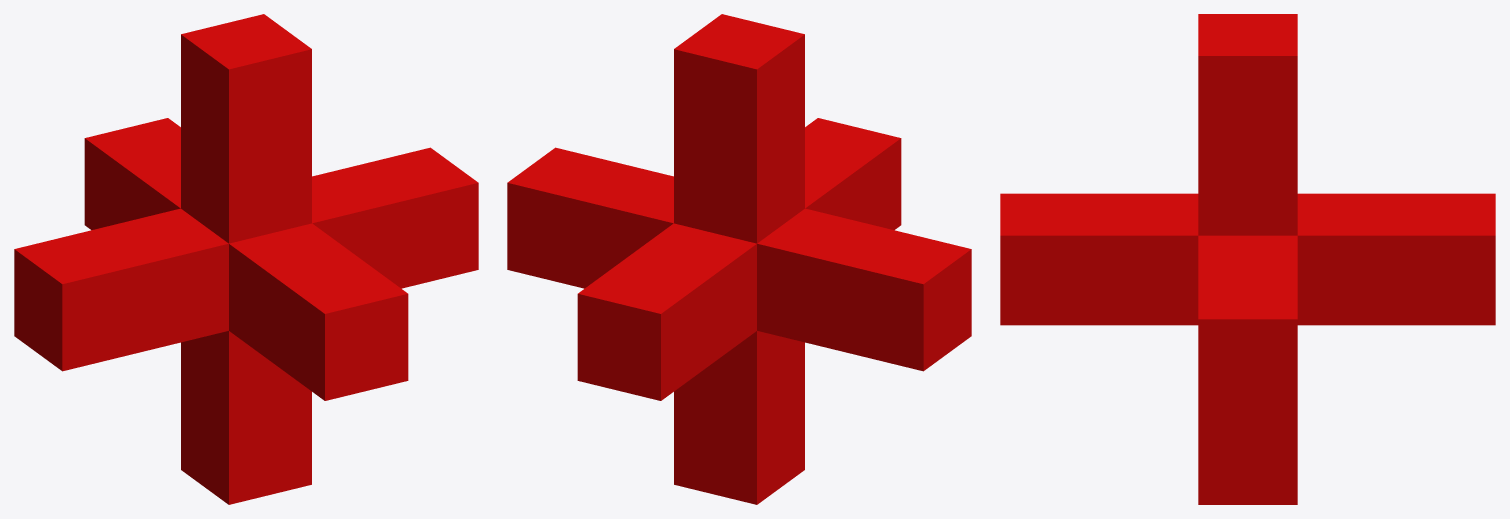
File: cross.fbx
3 views of the same model, side by side, from view 1: azimuth 30°, elevation 25°; view 2: azimuth 150°, elevation 25°; view 3: azimuth 270°, elevation 25° (orthographic). The views are drawn at different scales.
Parts seen in each view (by area): view 1: pCube4; view 2: pCube4; view 3: pCube4.
Boxes of the visible parts, x1,y1,x2,y2 form: pCube4: [14, 14, 478, 504]; pCube4: [507, 14, 971, 504]; pCube4: [1000, 14, 1495, 504].
Size of the model in its own units: 5 by 5 by 5.
